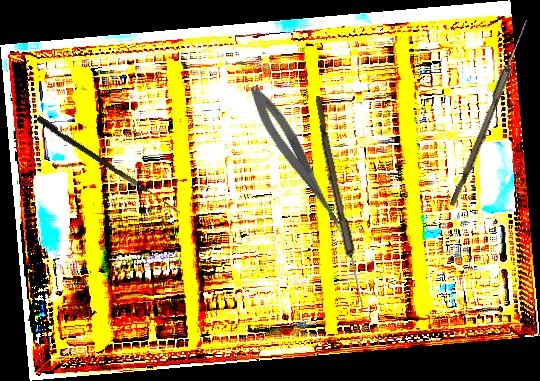Hook Surgical: (34, 115, 185, 214)
Micro Scissor: (242, 81, 356, 239)
Surgical Spoon: (449, 17, 531, 209), (309, 95, 370, 312)
